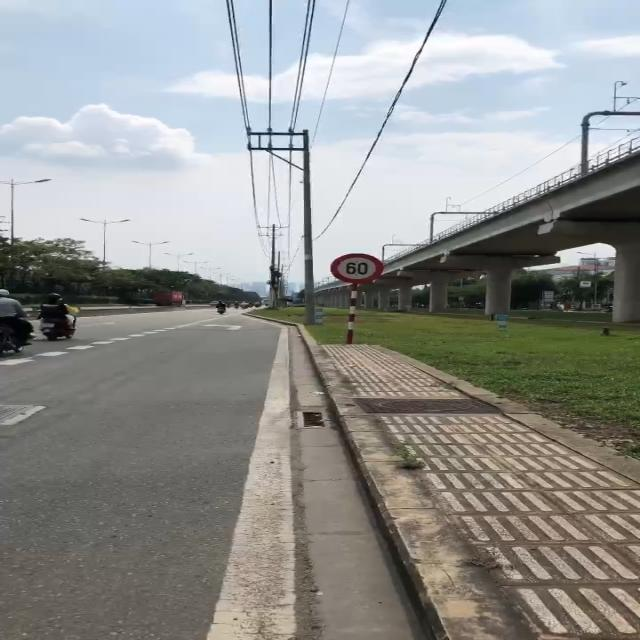Bien bao toc do toi da cho phep: (327, 250, 392, 286)
